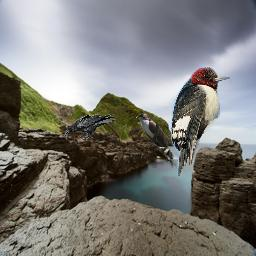Crow: (65, 114, 116, 139)
Cuckoo: (136, 113, 177, 168)
Woodpecker: (171, 67, 231, 176)
